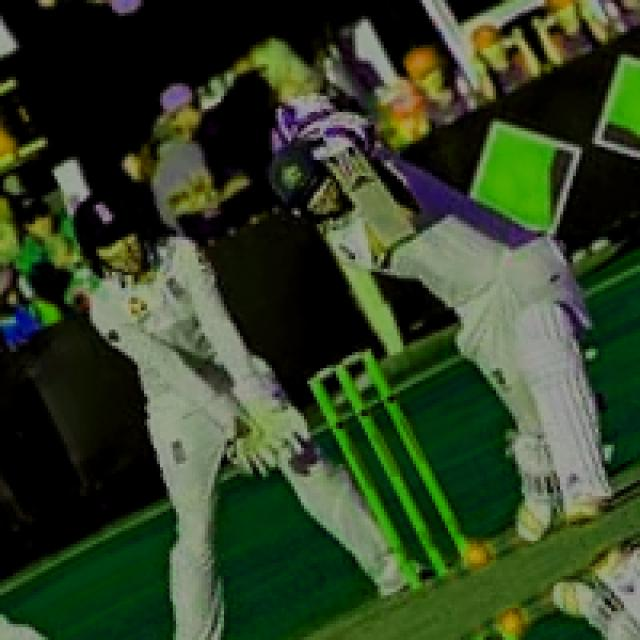toe: (369, 213, 417, 253)
